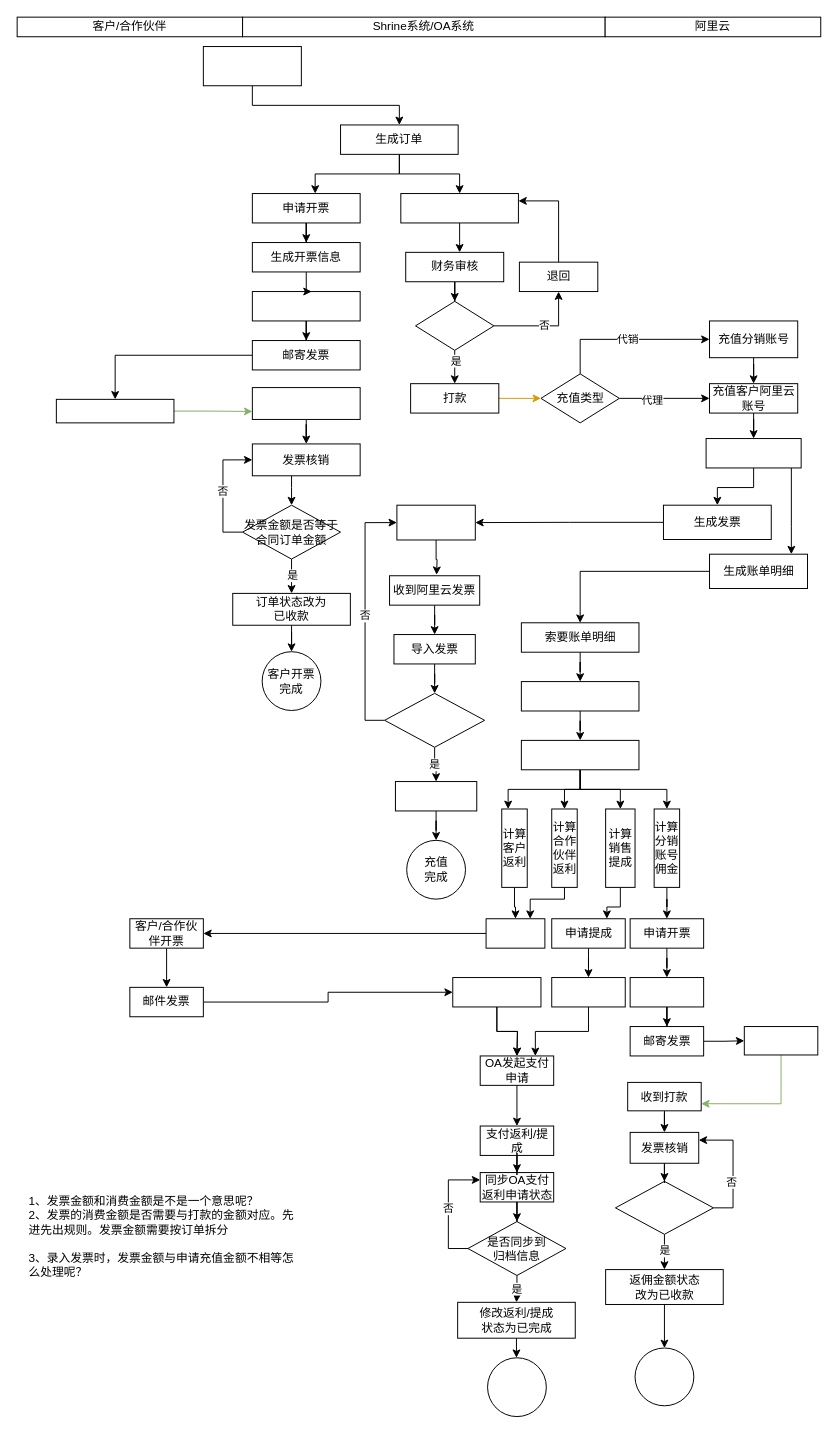
Some shapes in this 838 by 1434 pixel diagram are drawn without their labels. Each missing label, with the centre of its shape:
充值订单状态改为已归档: the point at 435,796
发票金额是否等于充值金额: the point at 434,719
发票金额是否等于返佣金额: the point at 663,1207
客户打款: the point at 114,410
客户消费: the point at 753,453
导入账账单明细: the point at 579,696
录入发票信息: the point at 305,306
支付提成: the point at 588,992
收到客户发票: the point at 496,992
收到客户打款: the point at 305,403
是否收到客户打款: the point at 454,325
生成月账单: the point at 579,754
申请充值: the point at 459,208
申请返利: the point at 515,933
签订合同: the point at 251,66
索要发票: the point at 435,522
财务开票: the point at 666,992
返佣 完成: the point at 664,1376
返利/提现 完成: the point at 516,1387
阿里打款: the point at 780,1040
